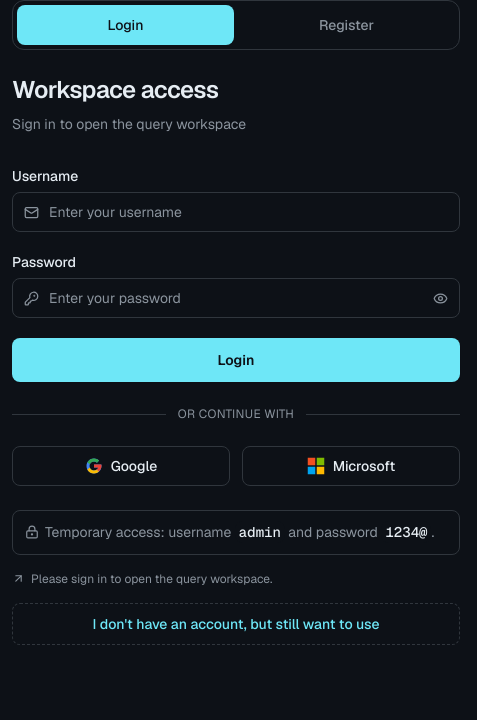
Test: SignInPanel interaction states (T029) › surfaces a visible alert when the server rejects the credentials
Type "wrong" into the field labelled "Username" at x=236, y=212, box 12,192 -> 460,232
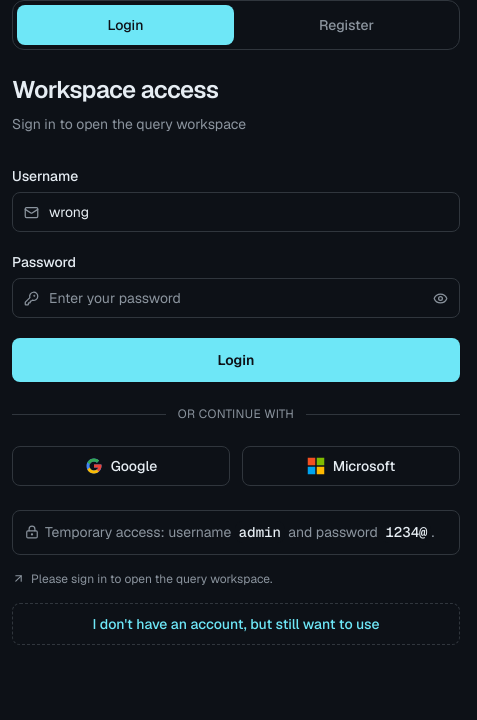
Type "nope" into the password field labelled "Password" at x=236, y=298, box 12,278 -> 460,318
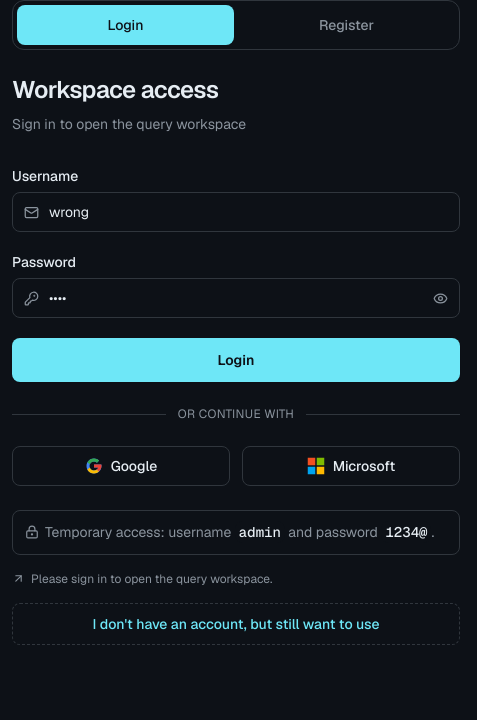
Click the button "Login" at x=236, y=360, box 12,338 -> 460,382
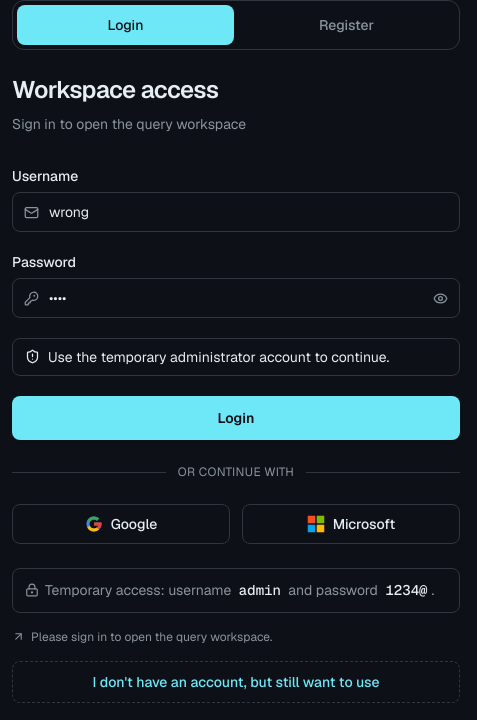
Check: the message reads "Use the temporary administrator account to continue.", box 48,348 -> 389,366
